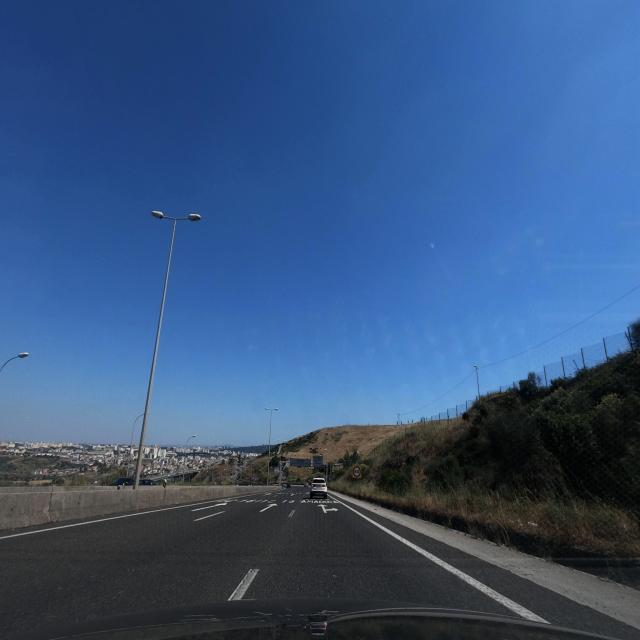car: (308, 476, 328, 500)
